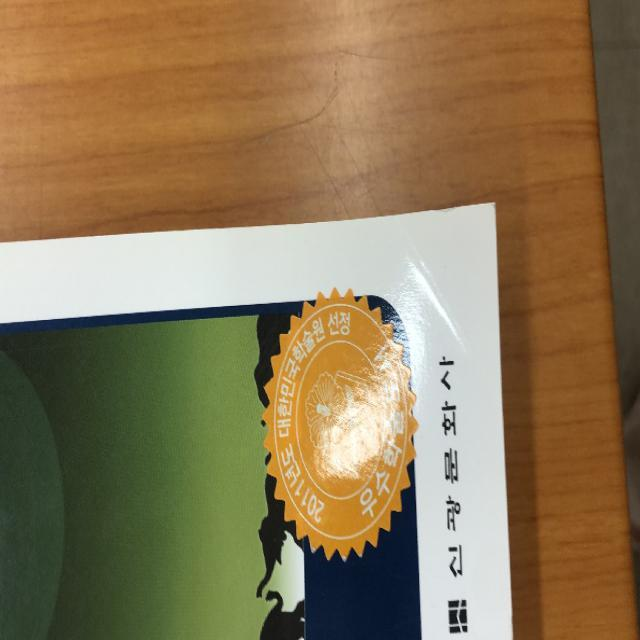Wornout: (388, 198, 509, 218)
